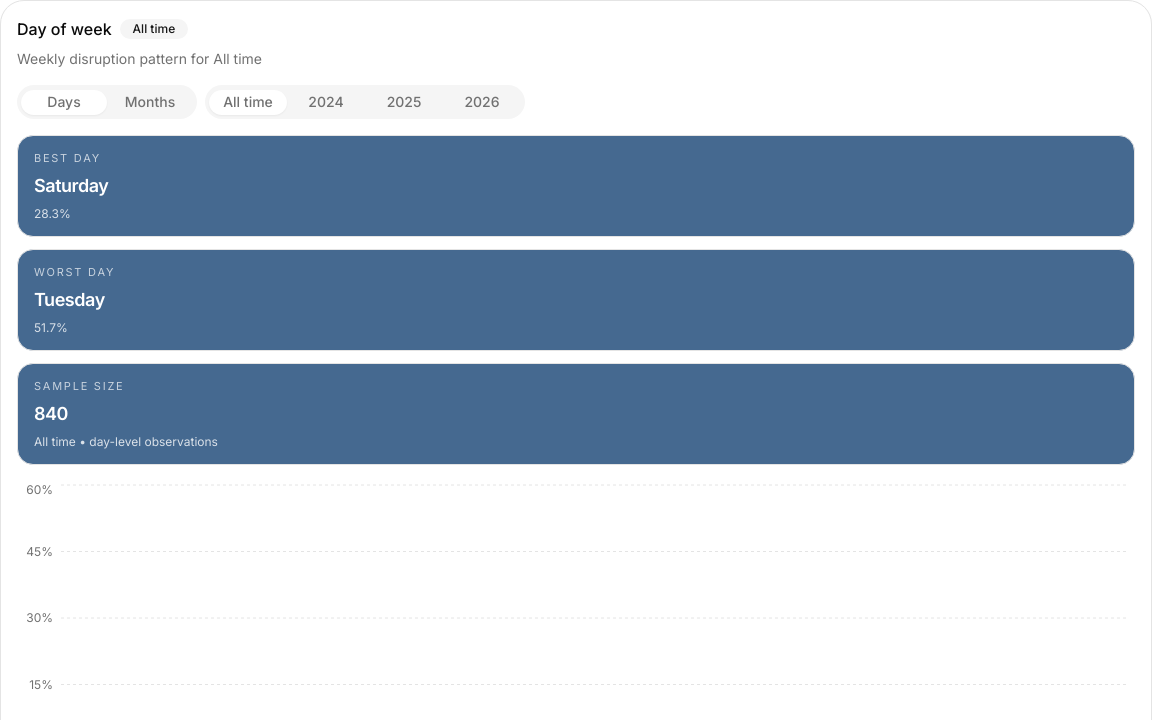
TemporalPatternsPanel › switches period to 2024 when 2024 tab is clicked
This screenshot has width=1152, height=720.
Click the tab "2024" at {"x": 326, "y": 102}, box left=287, top=90, right=365, bottom=114
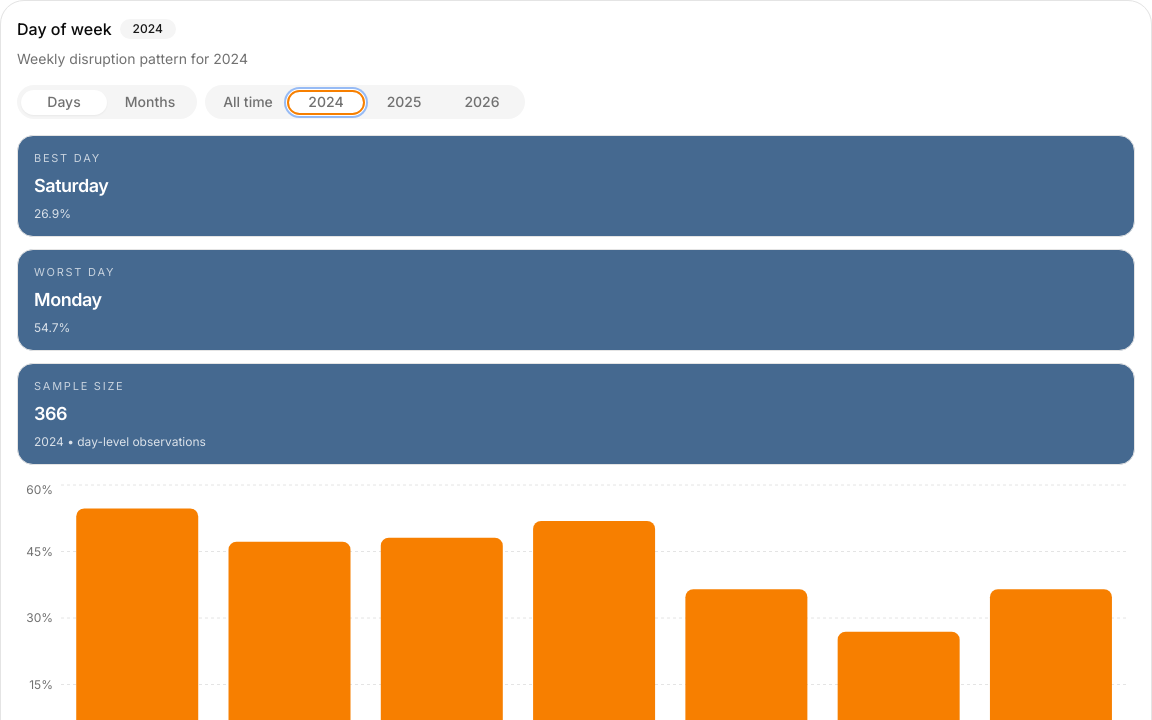
Now the text "Weekly disruption pattern for 2024" is shown, box left=17, top=50, right=248, bottom=67
